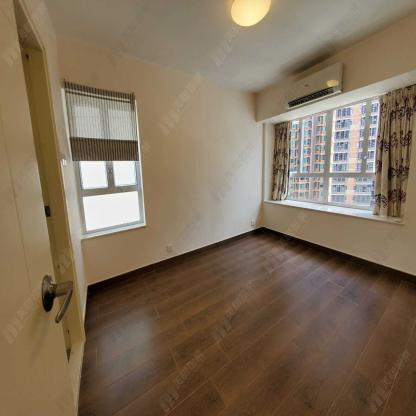AC: (283, 61, 344, 111)
Windowsill: (256, 68, 416, 226)
